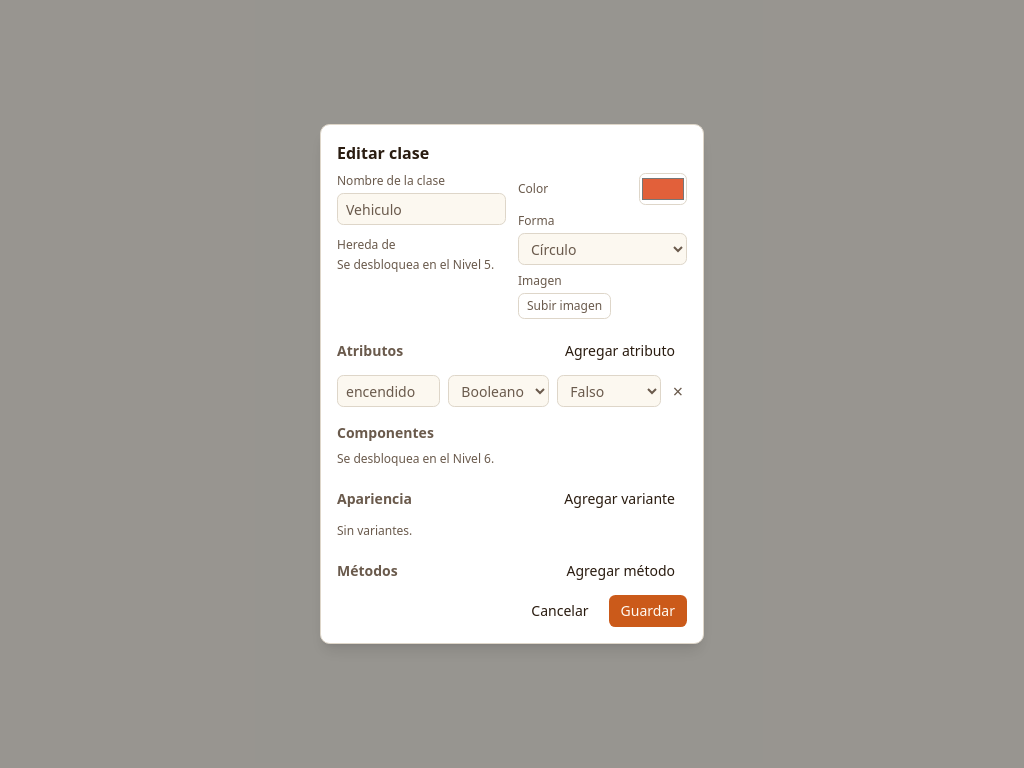
Test case: ClassEditorDialog › adds a visual variant for a custom attribute
The width and height of the screenshot is (1024, 768).
Expected: the heading "Apariencia" is shown, x1=337 y1=489 x2=412 y2=509
Expected: the text "Sin variantes." is shown, x1=337 y1=522 x2=412 y2=539
Click the button "Agregar variante". click: click(620, 499)
box: x1=552 y1=483 x2=687 y2=515
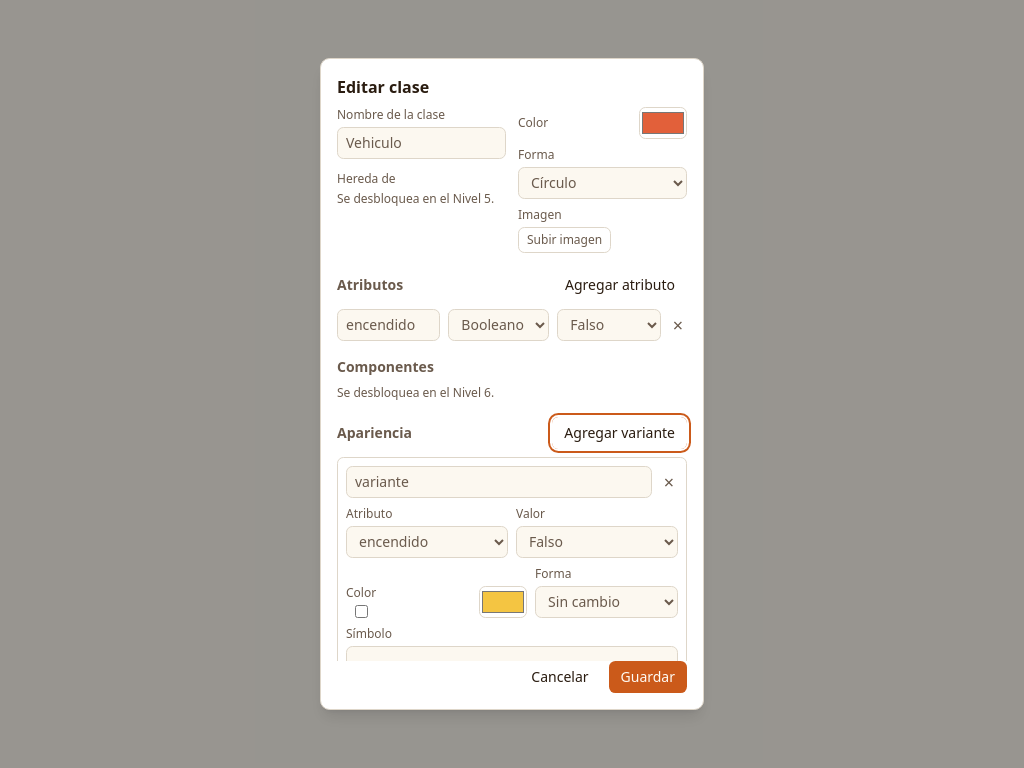
Expected: the field named "Nombre de la variante" is shown, x1=346 y1=466 x2=652 y2=498
